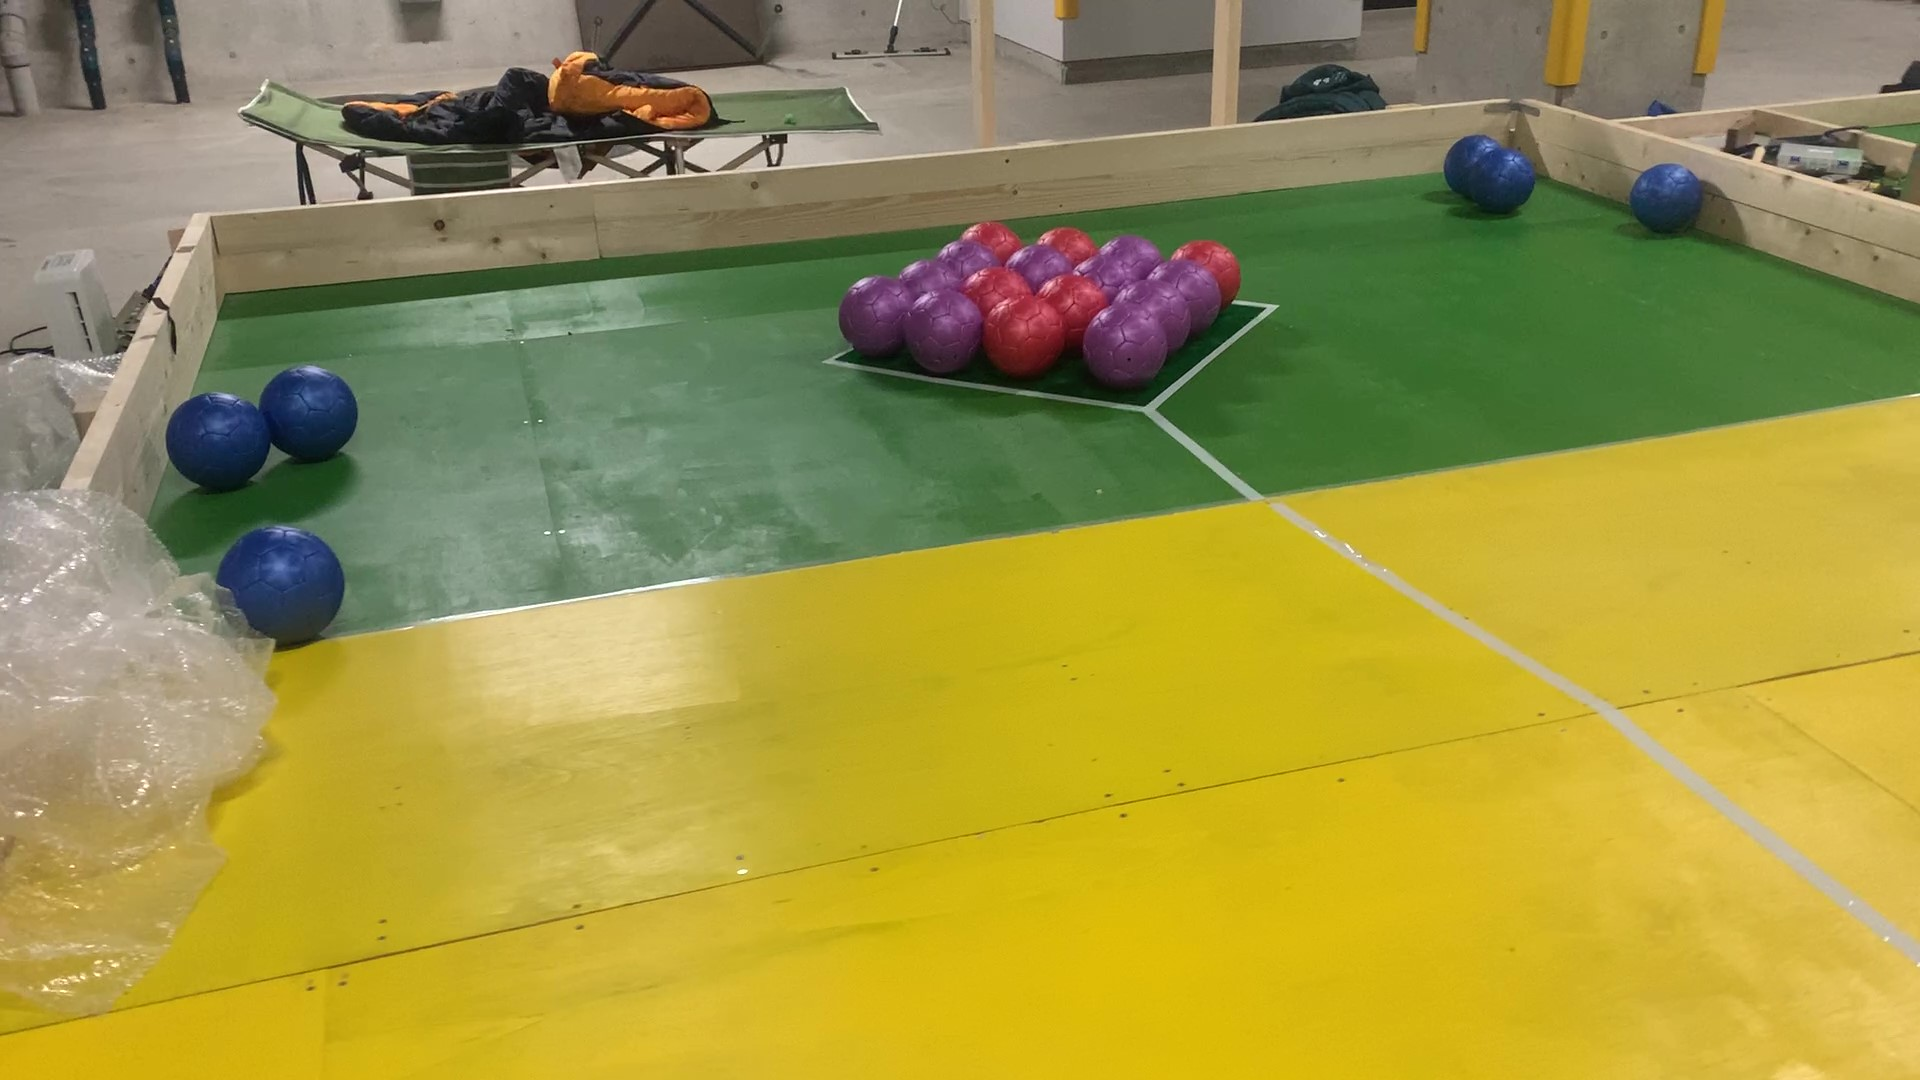blue: (235, 535, 332, 634), (162, 400, 258, 485), (264, 371, 353, 451), (1639, 166, 1700, 235), (1477, 152, 1526, 211), (1444, 140, 1474, 195)
purple: (915, 302, 980, 369), (1100, 316, 1164, 376), (849, 284, 902, 351), (1195, 274, 1220, 328), (905, 262, 951, 290), (1116, 231, 1160, 257), (1139, 281, 1182, 309), (1084, 257, 1127, 282), (1019, 251, 1062, 274), (952, 241, 988, 268)
red: (992, 298, 1056, 364), (1189, 240, 1236, 274), (973, 269, 1023, 298), (1060, 287, 1092, 327), (1052, 228, 1095, 253), (977, 224, 1025, 241)
